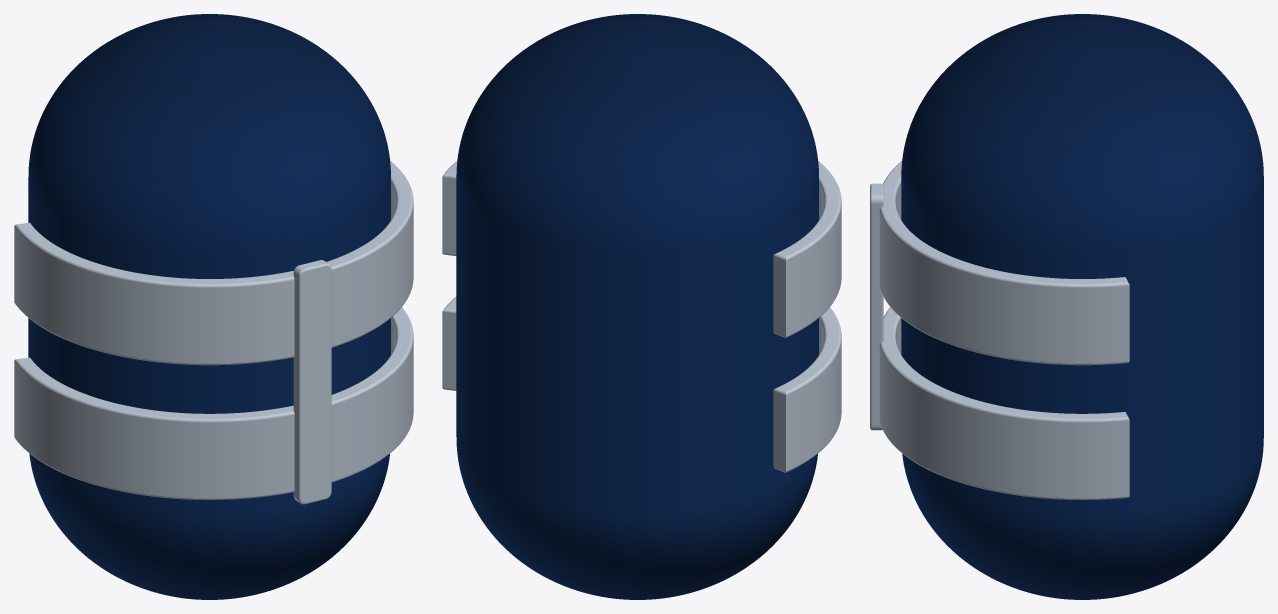
3 views of the same model, side by side, from view 1: azimuth 30°, elevation 25°; view 2: azimuth 150°, elevation 25°; view 3: azimuth 270°, elevation 25° (orthographic).
Parts seen in each view (by area): view 1: Continuous solid closed capsule; navy dome, cobalt core, nav, Upper broad silver wrapped grille crossband, Lower broad silver wrapped grille crossband, Single central upright silver rib, connects both crossbands; view 2: Continuous solid closed capsule; navy dome, cobalt core, nav, Upper broad silver wrapped grille crossband, Lower broad silver wrapped grille crossband; view 3: Continuous solid closed capsule; navy dome, cobalt core, nav, Upper broad silver wrapped grille crossband, Lower broad silver wrapped grille crossband, Single central upright silver rib, connects both crossbands.
Part boxes in pixels (left/top/right/bottom): Continuous solid closed capsule; navy dome, cobalt core, nav: left=28, top=14, right=390, bottom=599; Upper broad silver wrapped grille crossband: left=14, top=161, right=413, bottom=365; Lower broad silver wrapped grille crossband: left=14, top=307, right=413, bottom=499; Single central upright silver rib, connects both crossbands: left=293, top=260, right=331, bottom=504; Continuous solid closed capsule; navy dome, cobalt core, nav: left=456, top=14, right=818, bottom=599; Upper broad silver wrapped grille crossband: left=442, top=161, right=841, bottom=337; Lower broad silver wrapped grille crossband: left=442, top=296, right=841, bottom=472; Continuous solid closed capsule; navy dome, cobalt core, nav: left=901, top=14, right=1263, bottom=599; Upper broad silver wrapped grille crossband: left=879, top=161, right=1129, bottom=365; Lower broad silver wrapped grille crossband: left=879, top=307, right=1129, bottom=499; Single central upright silver rib, connects both crossbands: left=870, top=183, right=883, bottom=430.
Size of the model in its own units: 1.75 by 2.6 by 1.69.
